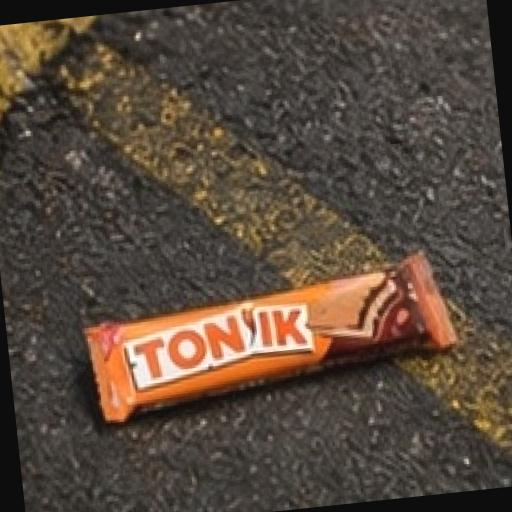tonik: (16, 148, 511, 512)
